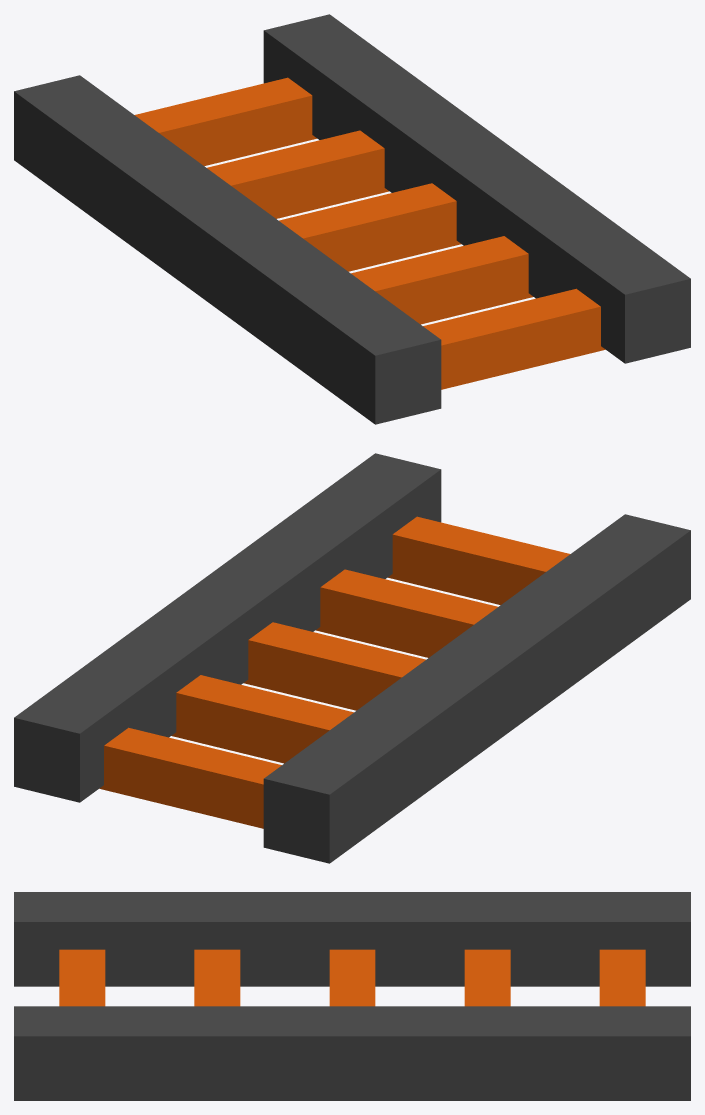
Rendered from TrailStraight.fbx.
3 views of the same model, one above another, from view 1: azimuth 30°, elevation 25°; view 2: azimuth 150°, elevation 25°; view 3: azimuth 270°, elevation 25° (orthographic). The views are drawn at different scales.
Parts seen in each view (by area): view 1: Cube.010, Cube.011, Cube.016, Cube.014, Cube.013, Cube.012, Cube.015; view 2: Cube.010, Cube.011, Cube.014, Cube.016, Cube.015, Cube.012, Cube.013; view 3: Cube.011, Cube.010, Cube.013, Cube.014, Cube.015, Cube.016, Cube.012.
Part boxes in pixels (bbox=[...]): Cube.010: bbox=[14, 75, 441, 424]; Cube.011: bbox=[263, 14, 690, 363]; Cube.016: bbox=[423, 288, 605, 389]; Cube.014: bbox=[134, 77, 316, 165]; Cube.013: bbox=[207, 130, 388, 218]; Cube.012: bbox=[279, 183, 461, 271]; Cube.015: bbox=[351, 236, 533, 324]; Cube.010: bbox=[263, 514, 690, 863]; Cube.011: bbox=[14, 453, 441, 802]; Cube.014: bbox=[99, 727, 281, 828]; Cube.016: bbox=[388, 516, 570, 604]; Cube.015: bbox=[316, 569, 497, 657]; Cube.012: bbox=[243, 622, 425, 710]; Cube.013: bbox=[171, 675, 353, 763]; Cube.011: bbox=[14, 1006, 690, 1100]; Cube.010: bbox=[14, 892, 690, 986]; Cube.013: bbox=[464, 949, 510, 1006]; Cube.014: bbox=[599, 949, 645, 1006]; Cube.015: bbox=[194, 949, 240, 1006]; Cube.016: bbox=[59, 949, 105, 1006]; Cube.012: bbox=[329, 949, 375, 1006].
Bounding box in the file's own units: 101 × 200 × 22.61.
